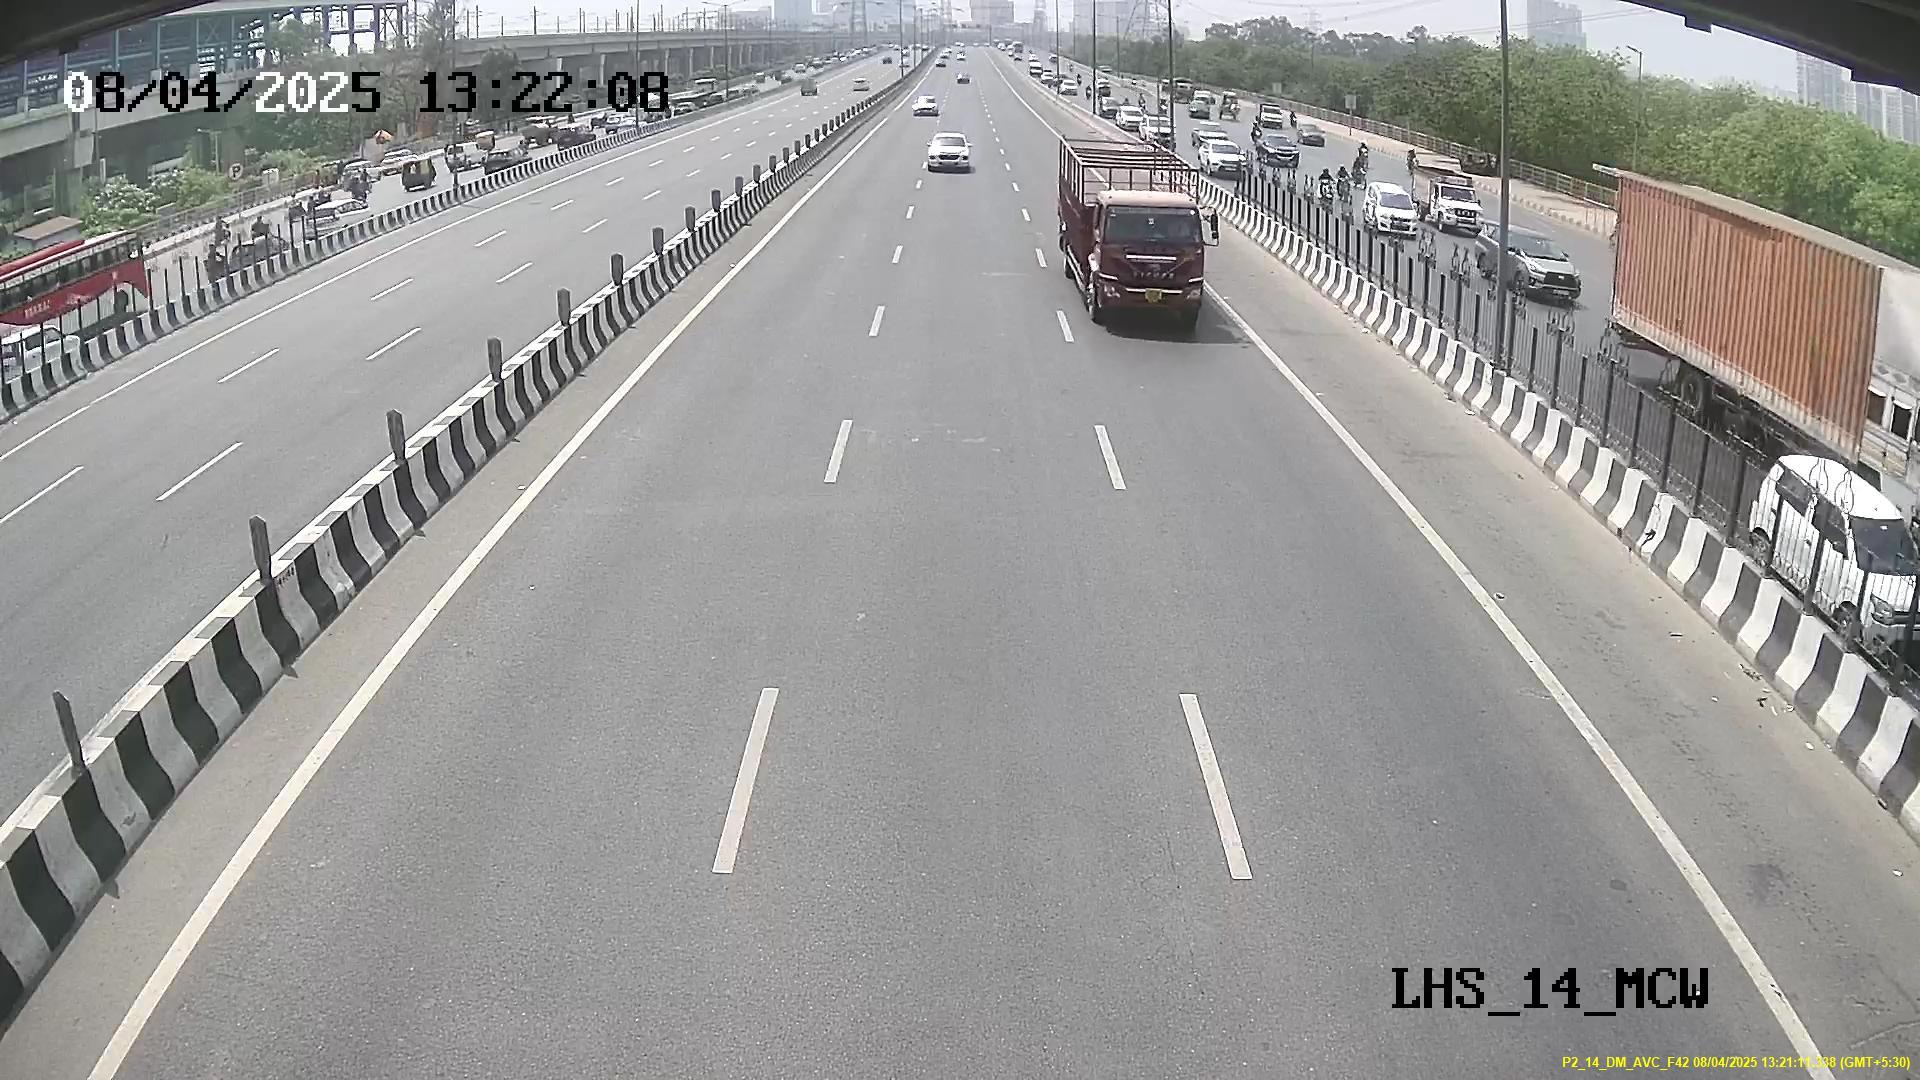lcv: (1085, 191, 1208, 328)
